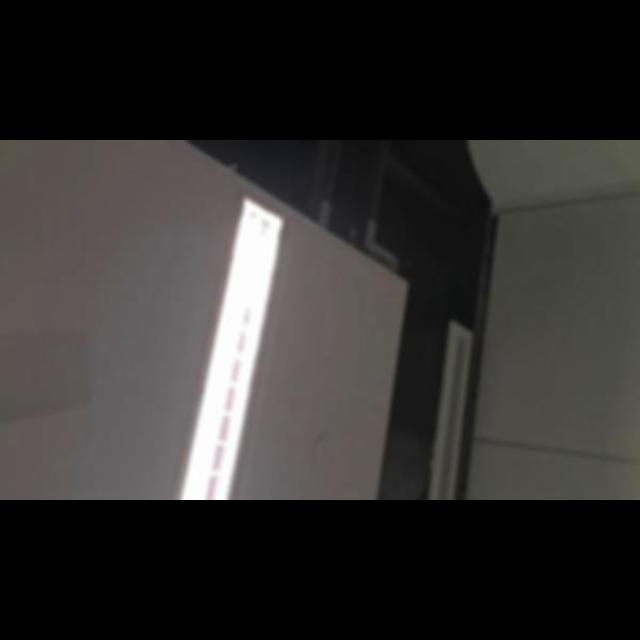Straight-Tube-Fluorescent-Lamp: (164, 195, 298, 500)
